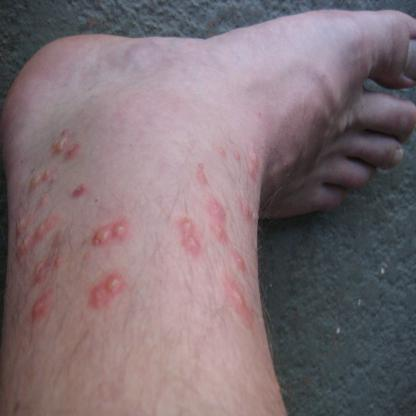Fire ant: (82, 222, 127, 262), (11, 214, 50, 256), (24, 169, 63, 208), (87, 274, 124, 308), (206, 194, 228, 244), (173, 212, 199, 254), (28, 257, 65, 284), (26, 289, 57, 318), (50, 128, 79, 158), (224, 280, 249, 311), (238, 194, 256, 225), (245, 148, 260, 180), (193, 159, 209, 186), (232, 246, 246, 270), (70, 181, 84, 198), (217, 143, 227, 161), (231, 146, 240, 162)
